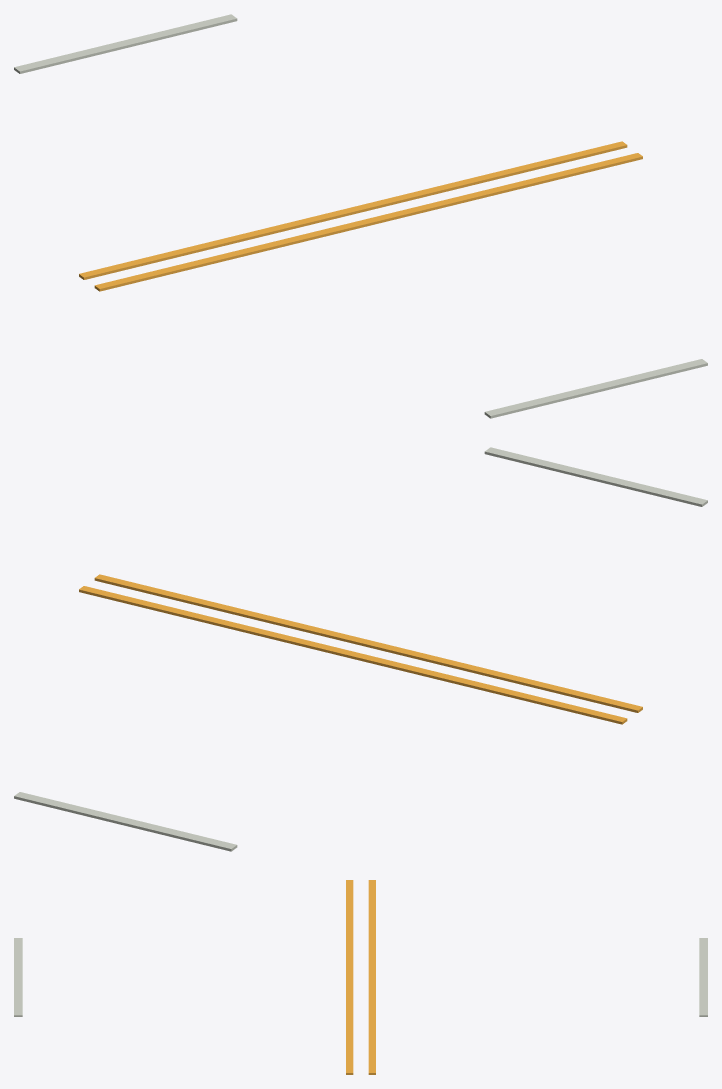
File: Road_4Lane_4m_LaneMarkings.glb
3 renders of one model, top to bottom at view 1: azimuth 30°, elevation 25°; view 2: azimuth 150°, elevation 25°; view 3: azimuth 270°, elevation 25°, orthographic. The views are drawn at different scales.
Parts seen in each view (by area): view 1: Road_4Lane_4m_LaneMarkings; view 2: Road_4Lane_4m_LaneMarkings; view 3: Road_4Lane_4m_LaneMarkings.
Boxes of the visible parts, x1,y1,x2,y2 form: Road_4Lane_4m_LaneMarkings: [14, 14, 707, 418]; Road_4Lane_4m_LaneMarkings: [14, 447, 707, 851]; Road_4Lane_4m_LaneMarkings: [14, 880, 707, 1074].
Bounding box in the file's own units: 4 × 0.018 × 6.07.
